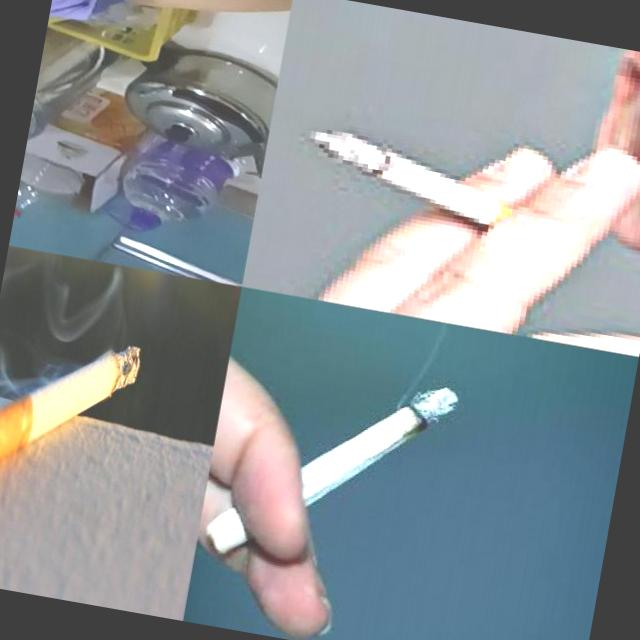cigarette: (202, 348, 460, 591), (294, 122, 560, 248), (0, 319, 143, 505)
